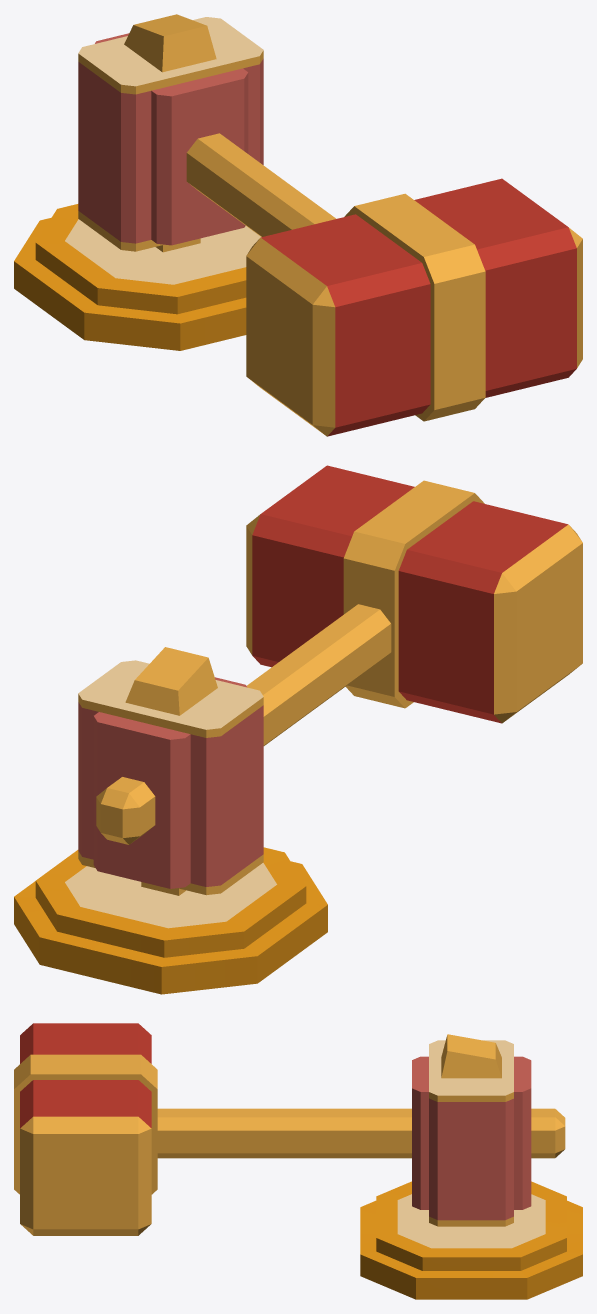
The model's file is bua xoay.fbx.
3 renders of one model, top to bottom at view 1: azimuth 30°, elevation 25°; view 2: azimuth 150°, elevation 25°; view 3: azimuth 270°, elevation 25°, orthographic. The views are drawn at different scales.
Parts seen in each view (by area): view 1: bua, de; view 2: bua, de; view 3: bua, de.
Part boxes in pixels (<box>): bua: <box>78,14,582,436</box>; de: <box>14,204,261,350</box>; bua: <box>78,465,582,895</box>; de: <box>14,847,327,994</box>; bua: <box>14,1023,565,1235</box>; de: <box>360,1181,582,1299</box>.
Size of the model in its own units: 64.68 by 60.58 by 149.
